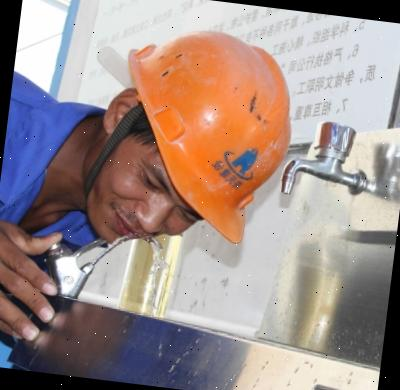helmet: (108, 19, 310, 249)
